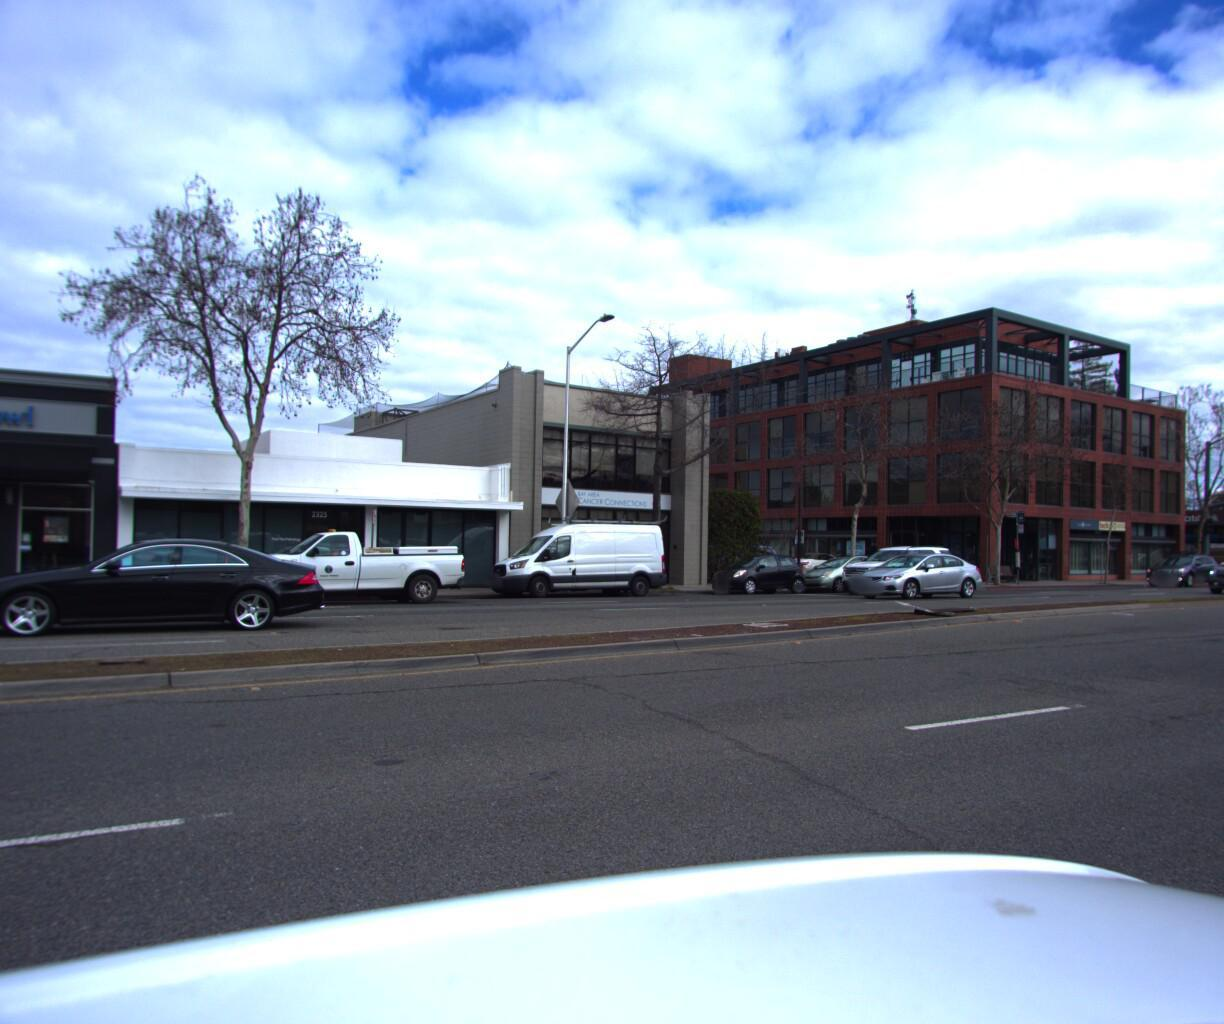car: (0, 536, 330, 642), (222, 523, 479, 608), (473, 503, 680, 600), (843, 543, 995, 598), (830, 540, 968, 593), (696, 548, 813, 594), (785, 548, 904, 590), (1133, 543, 1222, 583), (1192, 536, 1224, 591)
